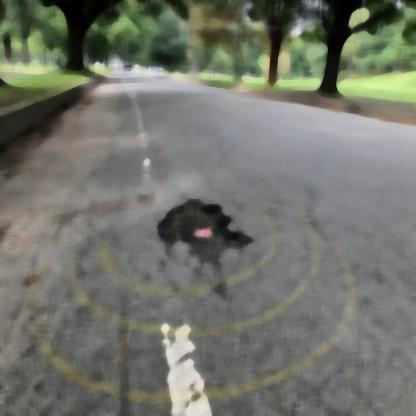Potholes: (162, 212, 233, 256)
